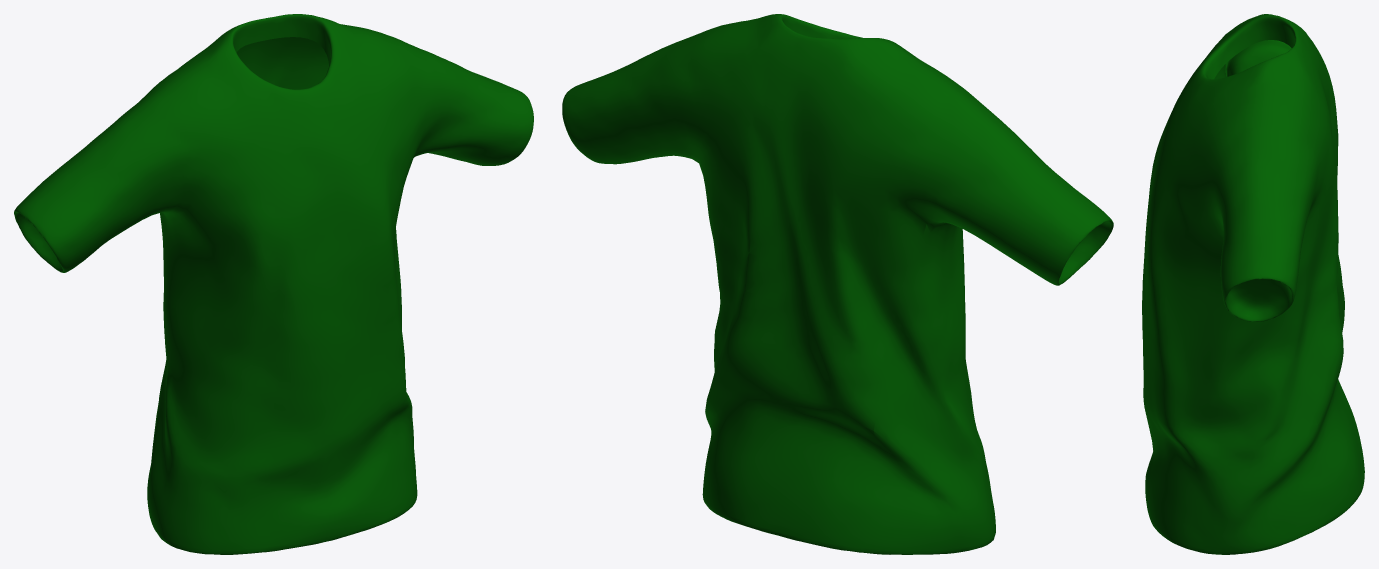
Rendered from shirt_green.obj.
3 renders of one model, left to right at view 1: azimuth 30°, elevation 25°; view 2: azimuth 150°, elevation 25°; view 3: azimuth 270°, elevation 25°, orthographic. The views are drawn at different scales.
Parts seen in each view (by area): view 1: 22_GOREPORT_1_20_30.006; view 2: 22_GOREPORT_1_20_30.006; view 3: 22_GOREPORT_1_20_30.006.
Part boxes in pixels (x1,y1,x2,y2): 22_GOREPORT_1_20_30.006: (14, 14, 533, 554); 22_GOREPORT_1_20_30.006: (562, 14, 1113, 554); 22_GOREPORT_1_20_30.006: (1142, 14, 1364, 554).
Bounding box in the file's own units: 0.8826 × 0.7952 × 0.3428.
